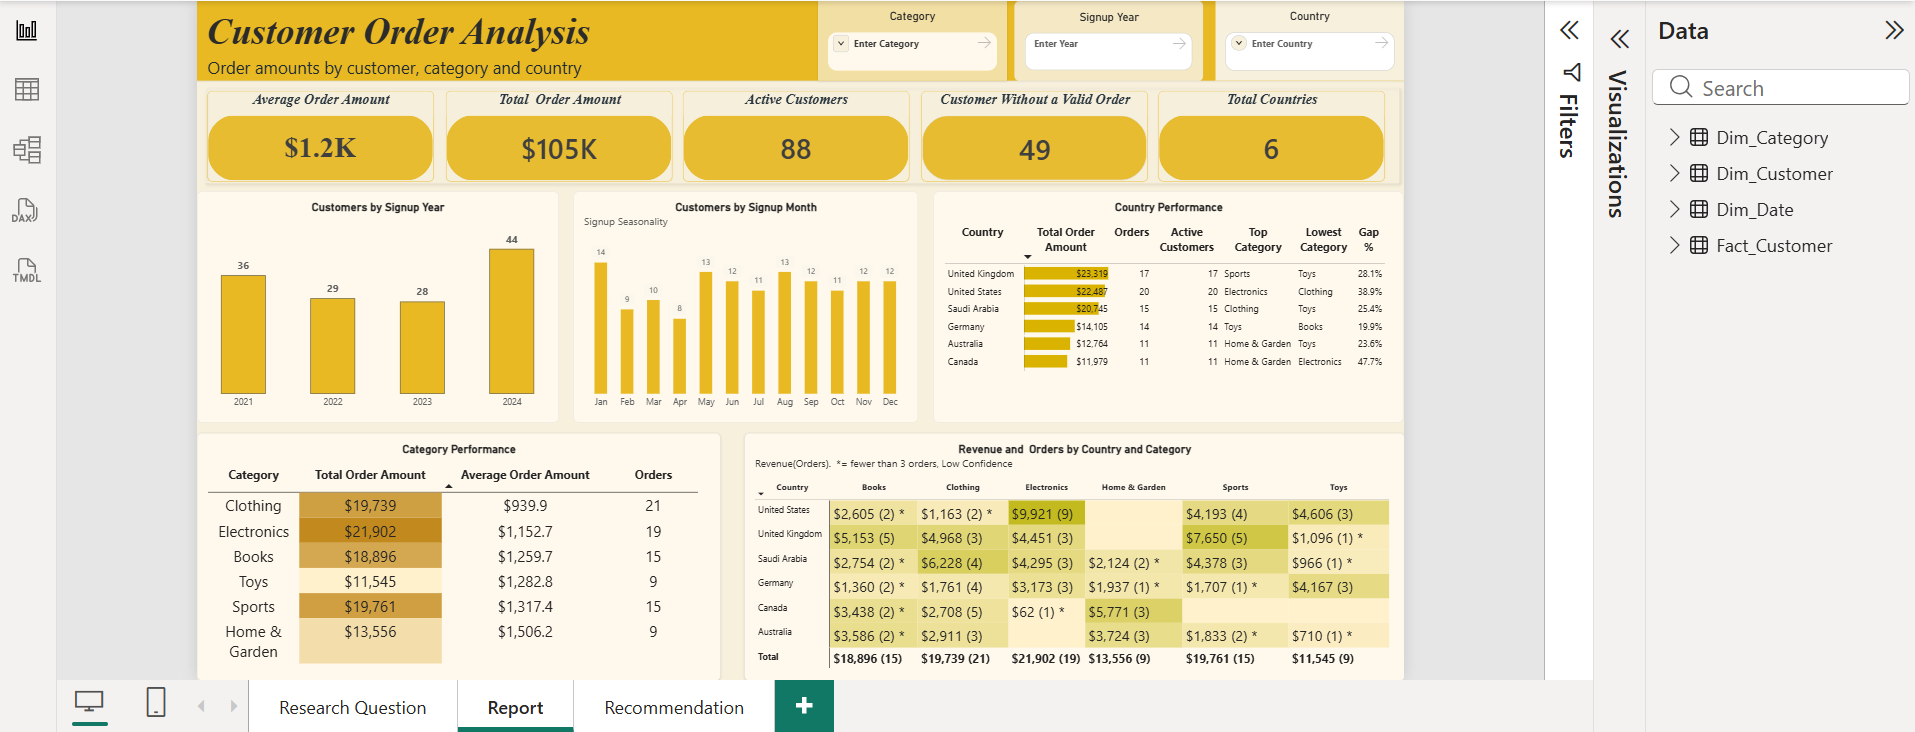

The page's visual inventory and layout, read from the dashboard file:
{"tool":"powerbi","page":{"name":"Report ","canvas":[1920,1080],"ordinal":1},"visuals":[{"type":"columnChart","title":"Customers by Signup Month","fields":{"Category":["Dim_Date.Month"],"Y":["Fact_Customer.Total Customers"]},"box":[599.8,302.2,548,367],"z":0},{"type":"tableEx","title":"Category Performance","fields":{"Values":["Fact_Customer.Category","Fact_Customer.Total Order Amount","Fact_Customer.Average Order Amount","Fact_Customer.Orders"]},"box":[0,686.3,832.7,394],"z":500},{"type":"tableEx","title":"Country Performance","fields":{"Values":["Fact_Customer.Country","Fact_Customer.Total Order Amount","Fact_Customer.Orders","Fact_Customer.Active Customers","Fact_Customer.Top Category","Fact_Customer.Lowest Category","Fact_Customer.Gap %"]},"box":[1172.5,302.2,747.5,367],"z":1000},{"type":"cardVisual","title":"Average Order Amount","fields":{"Data":["Fact_Customer.Average Order Amount"]},"box":[16.7,143.2,360.3,144],"z":3000},{"type":"cardVisual","title":"Active Customers","fields":{"Data":["Fact_Customer.Active Customers"]},"box":[773,143.2,360.3,144],"z":4000},{"type":"cardVisual","title":"Customer Without a Valid Order","fields":{"Data":["Fact_Customer.Customers Without Valid Order"]},"box":[1151.2,143.2,360.3,144],"z":5000},{"type":"cardVisual","title":"Total  Order Amount","fields":{"Data":["Fact_Customer.Total Order Amount"]},"box":[394.9,143.2,360.3,144],"z":6000},{"type":"cardVisual","title":"Total Countries","fields":{"Data":["Fact_Customer.Total Countries"]},"box":[1529.4,143.2,360.3,144],"z":7000},{"type":"textbox","box":[0,0,1920.7,126.5],"z":8000},{"type":"shape","box":[2.4,126.5,1918.3,171.8],"z":9000},{"type":"textSlicer","fields":{"Values":["Fact_Customer.Country"]},"box":[1620,0,300.6,126.5],"z":10000},{"type":"textSlicer","title":"Signup Year","fields":{"Values":["Dim_Date.Year"]},"box":[1300,0,300,127.5],"z":11000},{"type":"textSlicer","fields":{"Values":["Fact_Customer.Category"]},"box":[987.8,0,300.6,126.5],"z":12000},{"type":"columnChart","title":" Customers by Signup Year","fields":{"Category":["Dim_Date.Year"],"Y":["Fact_Customer.Total Customers"]},"box":[0,302.2,575,367.4],"z":12500},{"type":"pivotTable","title":"Revenue and  Orders by Country and Category","fields":{"Columns":["Fact_Customer.Category"],"Rows":["Fact_Customer.Country"],"Values":["Fact_Customer.Cell Label"]},"box":[870.9,686.3,1049.8,394],"z":12750},{"type":"textbox","box":[16.7,81.1,844.6,62],"z":13000}]}

Visuals, with their boxes on the page's 1920x1080 design canvas (x1, y1, x2, y2). These are canvas units, not pixel positions in the 1915x732 screenshot, which may show the page scaled, cropped or inside an application window:
"Customers by Signup Month" columnChart: l=600, t=302, r=1148, b=669
"Category Performance" tableEx: l=0, t=686, r=833, b=1080
"Country Performance" tableEx: l=1172, t=302, r=1920, b=669
"Average Order Amount" cardVisual: l=17, t=143, r=377, b=287
"Active Customers" cardVisual: l=773, t=143, r=1133, b=287
"Customer Without a Valid Order" cardVisual: l=1151, t=143, r=1512, b=287
"Total  Order Amount" cardVisual: l=395, t=143, r=755, b=287
"Total Countries" cardVisual: l=1529, t=143, r=1890, b=287
textbox: l=0, t=0, r=1921, b=126
shape: l=2, t=126, r=1921, b=298
textSlicer - Fact_Customer.Country: l=1620, t=0, r=1921, b=126
"Signup Year" textSlicer: l=1300, t=0, r=1600, b=128
textSlicer - Fact_Customer.Category: l=988, t=0, r=1288, b=126
" Customers by Signup Year" columnChart: l=0, t=302, r=575, b=670
"Revenue and  Orders by Country and Category" pivotTable: l=871, t=686, r=1921, b=1080
textbox: l=17, t=81, r=861, b=143
